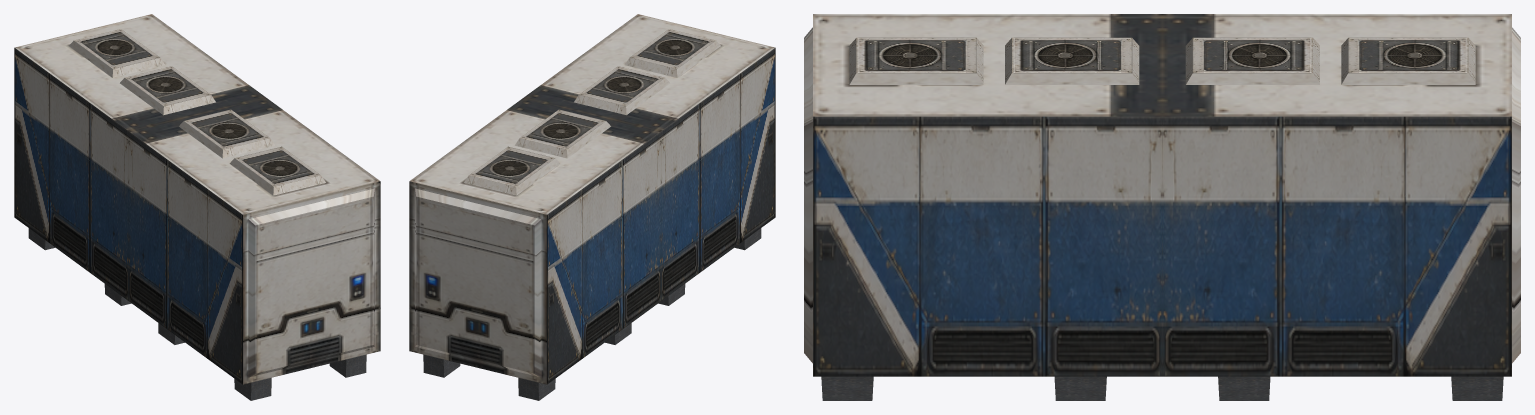
Rendered from suply_container.dae.
3 renders of one model, left to right at view 1: azimuth 30°, elevation 25°; view 2: azimuth 150°, elevation 25°; view 3: azimuth 270°, elevation 25°, orthographic. The views are drawn at different scales.
Visible parts, largest first — view 1: suply_container; view 2: suply_container; view 3: suply_container.
Part boxes in pixels (x1=…): suply_container: x1=14, y1=14, x2=380, y2=400; suply_container: x1=409, y1=14, x2=775, y2=400; suply_container: x1=804, y1=14, x2=1520, y2=400.
Bounding box in the file's own units: 9.2 × 27.11 × 12.62.
